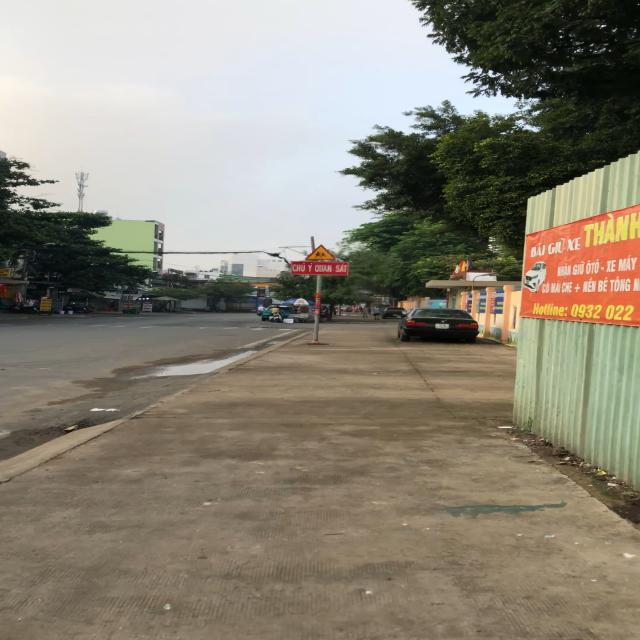Bien bao tre em: (305, 242, 337, 260)
